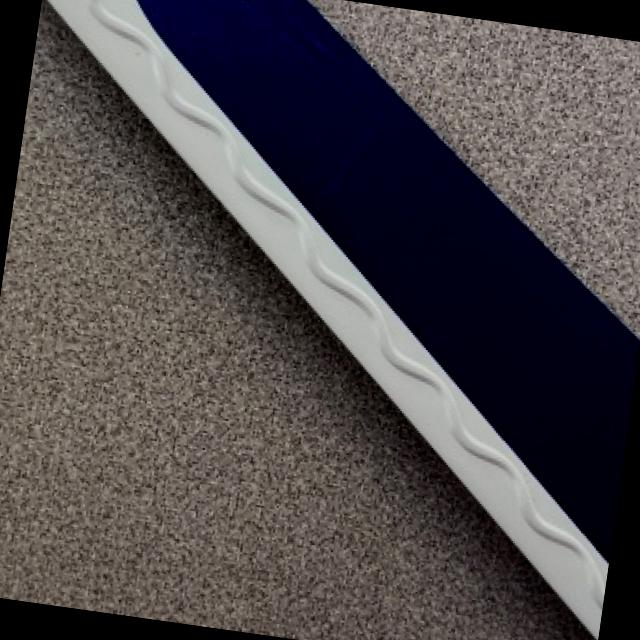healthy: (0, 1, 592, 640)
